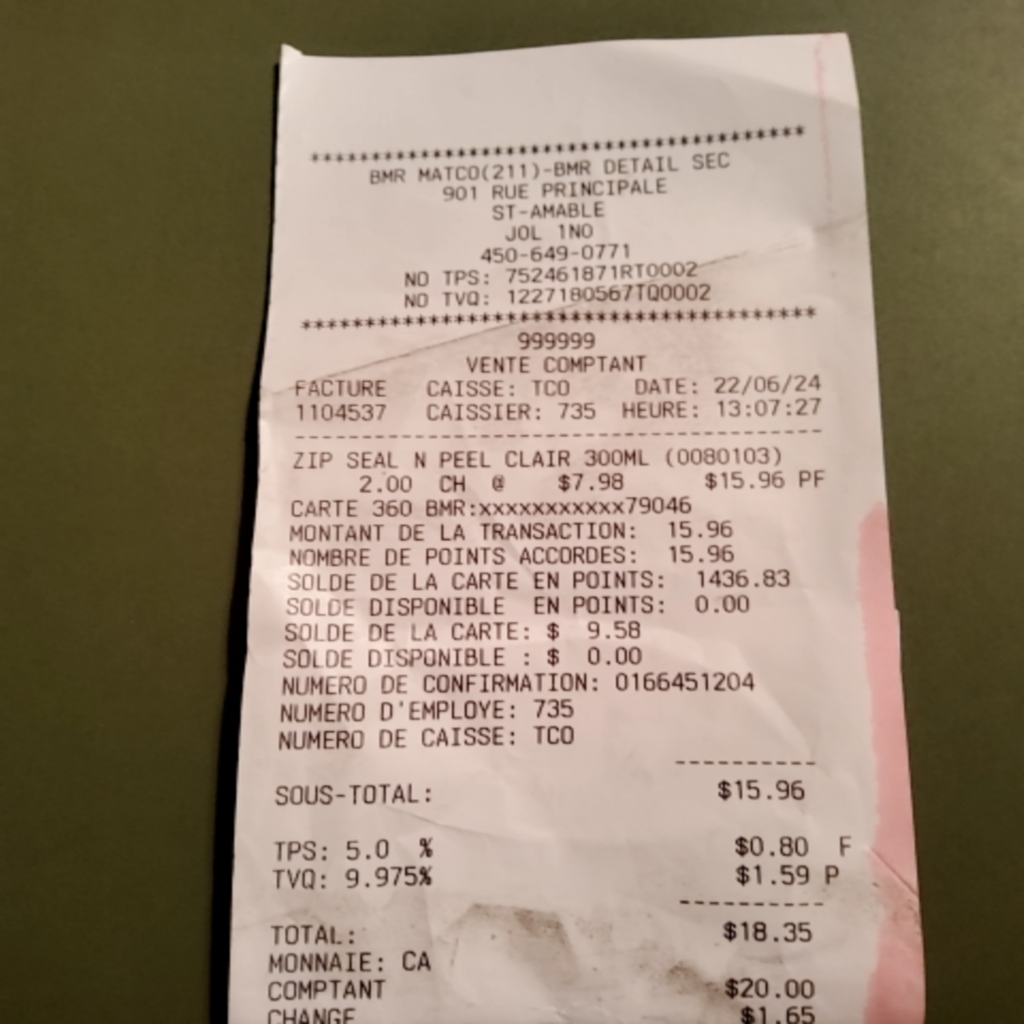recipt: (227, 34, 925, 1024)
